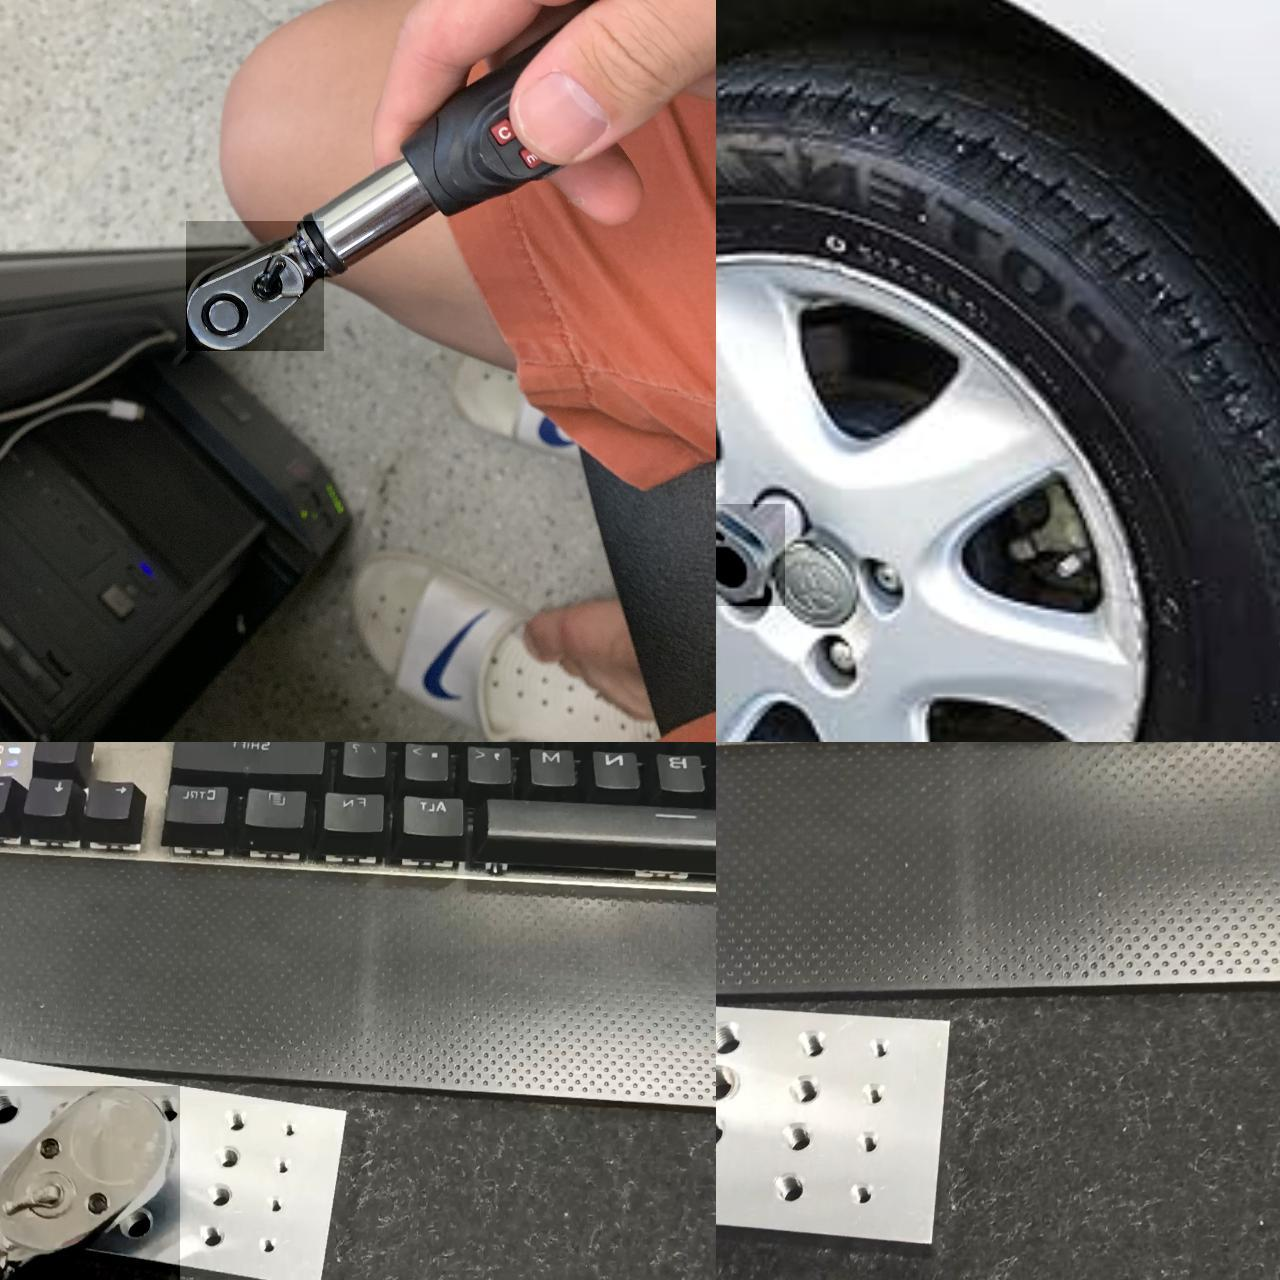Tool: (0, 1085, 181, 1280), (186, 222, 324, 350), (716, 504, 785, 606)
